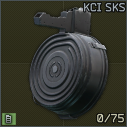SKS 7.62x39 KCI 75-round drum magazine: (0, 0, 127, 127)
